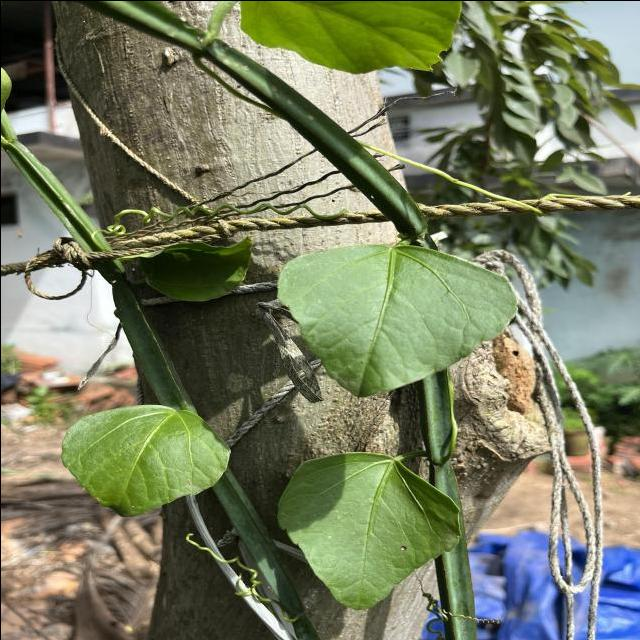Cissus quadrangularis: (272, 240, 520, 400), (273, 449, 463, 612), (57, 401, 233, 519)
